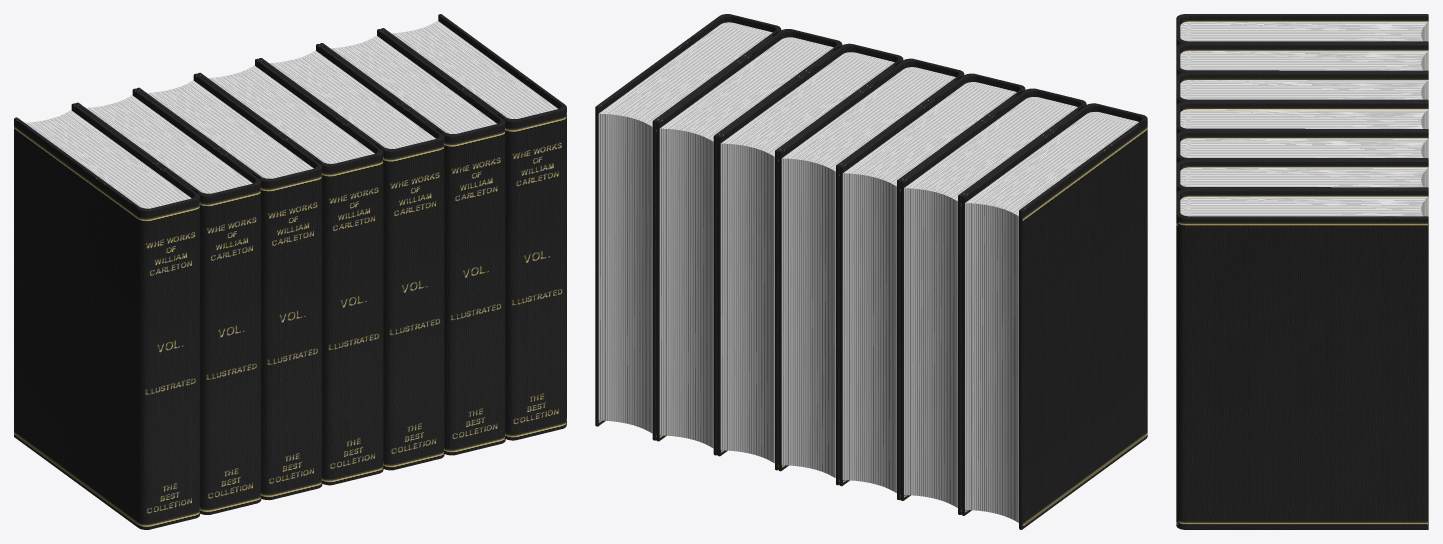
Rendered from kniga.FBX.
3 renders of one model, left to right at view 1: azimuth 30°, elevation 25°; view 2: azimuth 150°, elevation 25°; view 3: azimuth 270°, elevation 25°, orthographic. The views are drawn at different scales.
Parts seen in each view (by area): view 1: Rectangle19, Rectangle15, Rectangle17, Rectangle03, Rectangle06, Rectangle01, Rectangle04, Rectangle05, Rectangle18, Rectangle13, Rectangle09, Rectangle16 (+2 smaller); view 2: Rectangle19, Rectangle11, Rectangle13, Rectangle09, Rectangle02, Rectangle16, Rectangle18, Rectangle05, Rectangle03, Rectangle01, Rectangle06, Rectangle04 (+2 smaller); view 3: Rectangle03, Rectangle02, Rectangle05, Rectangle18, Rectangle11, Rectangle13, Rectangle16, Rectangle09, Rectangle15, Rectangle04, Rectangle17, Rectangle19 (+2 smaller).
Part boxes in pixels (x1=…): Rectangle19: x1=14, y1=103, x2=200, y2=529; Rectangle15: x1=136, y1=73, x2=322, y2=500; Rectangle17: x1=75, y1=88, x2=261, y2=514; Rectangle03: x1=381, y1=14, x2=566, y2=440; Rectangle06: x1=197, y1=58, x2=383, y2=485; Rectangle01: x1=320, y1=29, x2=505, y2=455; Rectangle04: x1=259, y1=44, x2=444, y2=470; Rectangle05: x1=25, y1=110, x2=191, y2=208; Rectangle18: x1=86, y1=95, x2=252, y2=193; Rectangle13: x1=269, y1=50, x2=435, y2=148; Rectangle09: x1=208, y1=65, x2=374, y2=163; Rectangle16: x1=147, y1=80, x2=313, y2=178; Rectangle19: x1=961, y1=103, x2=1147, y2=529; Rectangle11: x1=659, y1=37, x2=833, y2=448; Rectangle13: x1=720, y1=52, x2=894, y2=463; Rectangle09: x1=781, y1=67, x2=955, y2=477; Rectangle02: x1=598, y1=22, x2=772, y2=433; Rectangle16: x1=842, y1=82, x2=1016, y2=492; Rectangle18: x1=904, y1=97, x2=1077, y2=507; Rectangle05: x1=965, y1=112, x2=1138, y2=522; Rectangle03: x1=595, y1=14, x2=781, y2=440; Rectangle01: x1=656, y1=29, x2=842, y2=455; Rectangle06: x1=778, y1=58, x2=964, y2=485; Rectangle04: x1=717, y1=43, x2=903, y2=470; Rectangle03: x1=1176, y1=189, x2=1428, y2=529; Rectangle02: x1=1180, y1=196, x2=1428, y2=216; Rectangle05: x1=1180, y1=21, x2=1428, y2=41; Rectangle18: x1=1180, y1=50, x2=1428, y2=70; Rectangle11: x1=1180, y1=167, x2=1428, y2=187; Rectangle13: x1=1180, y1=138, x2=1428, y2=158; Rectangle16: x1=1180, y1=80, x2=1428, y2=99; Rectangle09: x1=1180, y1=109, x2=1428, y2=128; Rectangle15: x1=1176, y1=72, x2=1428, y2=104; Rectangle04: x1=1176, y1=130, x2=1428, y2=163; Rectangle17: x1=1176, y1=43, x2=1428, y2=75; Rectangle19: x1=1176, y1=14, x2=1428, y2=46.
Size of the model in its own units: 35 by 25 by 18.3.
